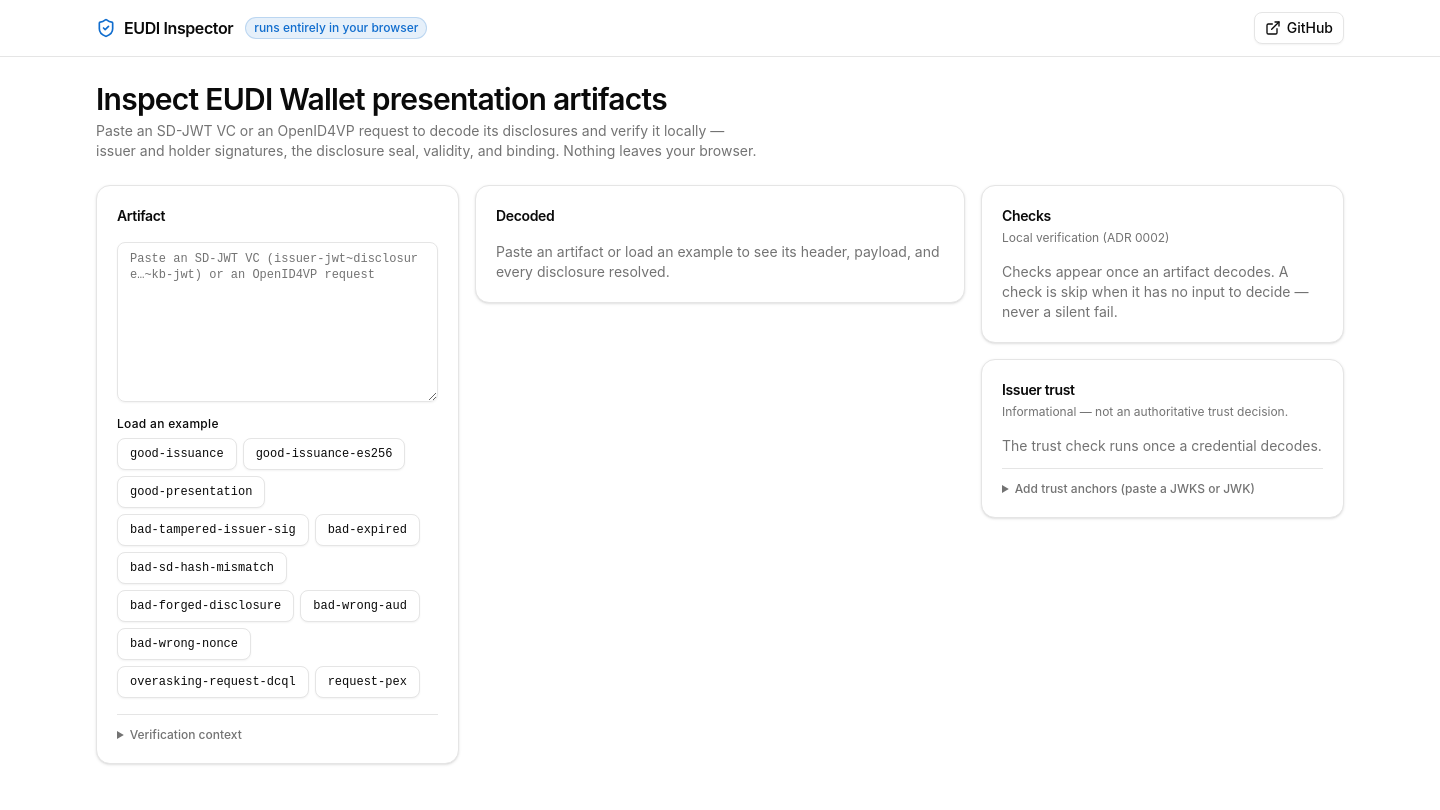
Test case: App › flags a failing check for the wrong-aud example
Click the button "bad-wrong-aud" at point(360, 606), box [300, 590, 420, 622]
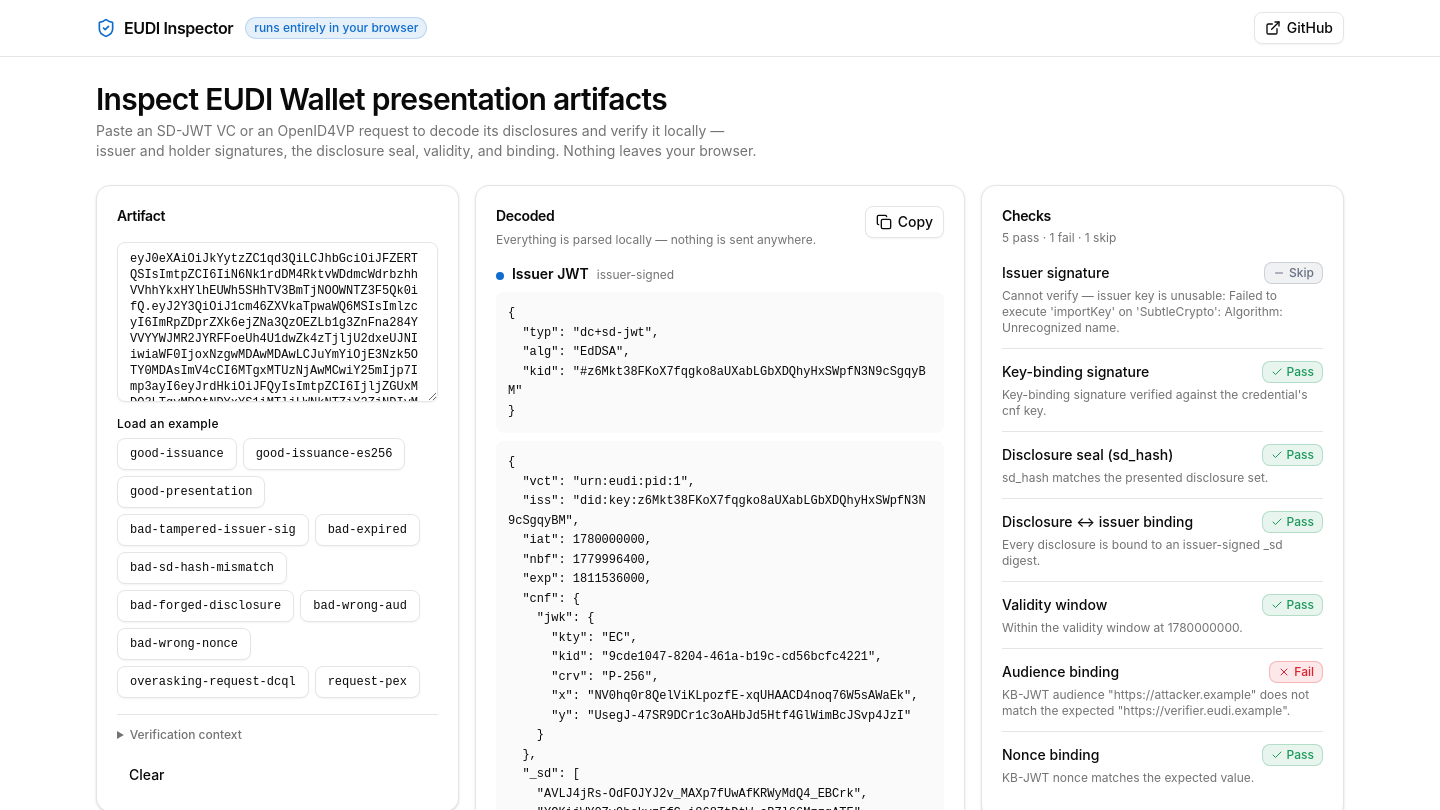
Result: the text "Fail" is shown at [1269, 661, 1323, 683]
